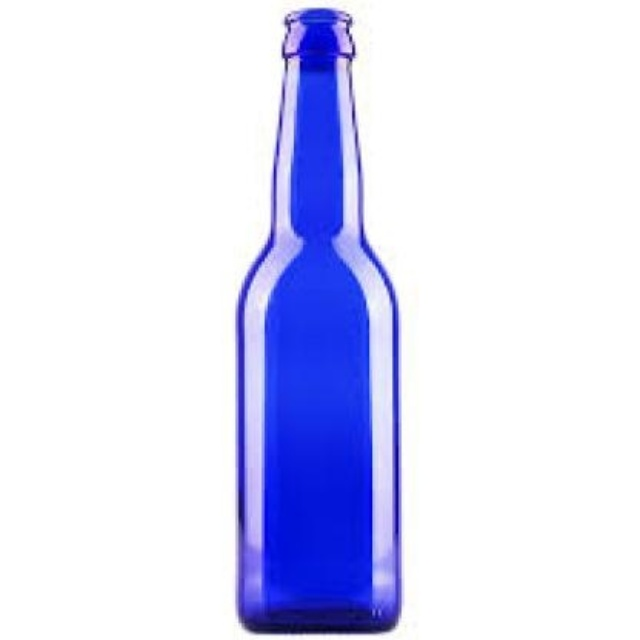trash: (237, 9, 400, 631)
